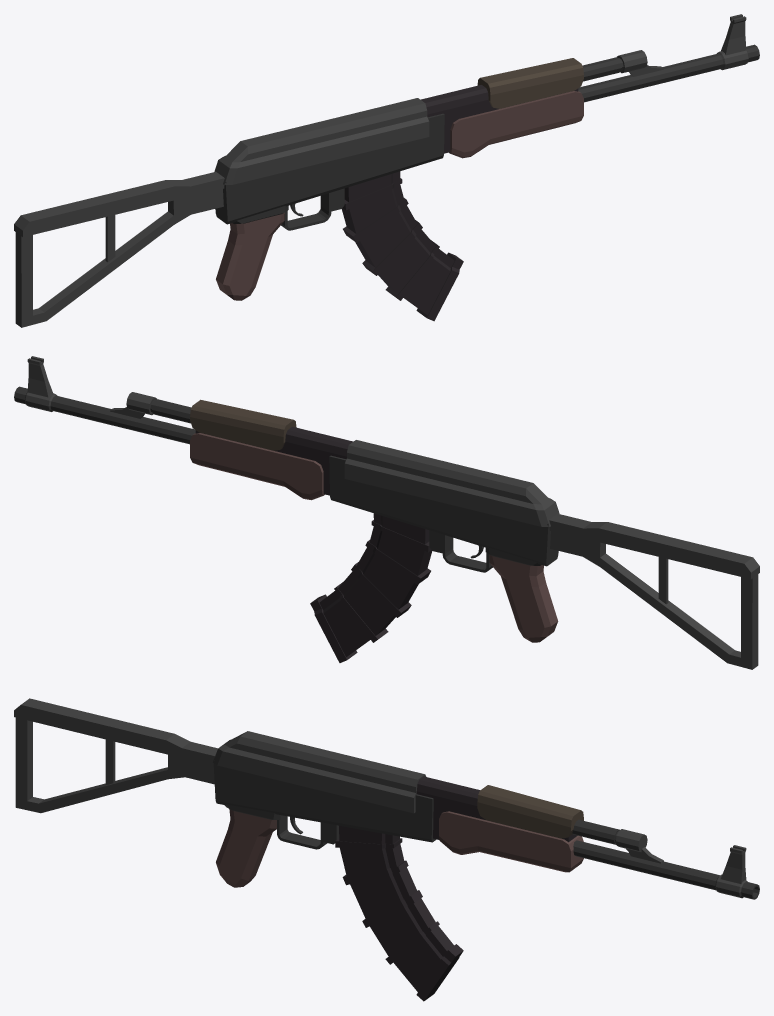
File: quaternius-ultimate-gun-pack-july-assaultrifle-4.glb
3 views of the same model, one above another, from view 1: azimuth 30°, elevation 25°; view 2: azimuth 150°, elevation 25°; view 3: azimuth 330°, elevation 25° (orthographic).
Visible parts, largest first — view 1: AssaultRifle_4; view 2: AssaultRifle_4; view 3: AssaultRifle_4.
Part boxes in pixels (x1=…): AssaultRifle_4: x1=14, y1=14, x2=759, y2=327; AssaultRifle_4: x1=14, y1=356, x2=759, y2=669; AssaultRifle_4: x1=14, y1=698, x2=759, y2=1001.
Bounding box in the file's own units: 5.49 × 1.6 × 0.1958.
1 material, 1 textured.
